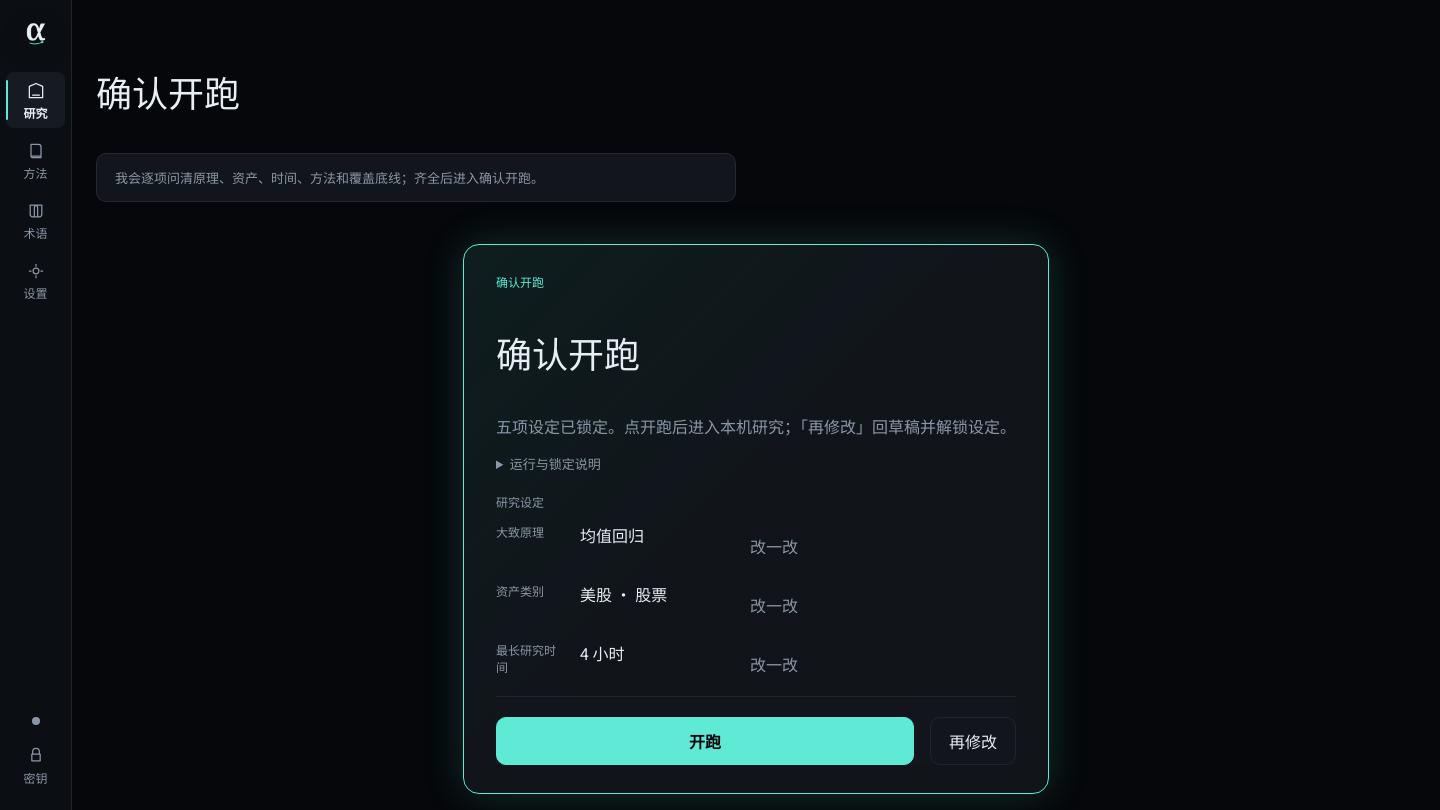
it: confirm run race › drops a stale refresh after the route generation changes
(page scrolled)
Click the button with test id "confirm-run-start" at [705, 741], box [496,717,914,765]
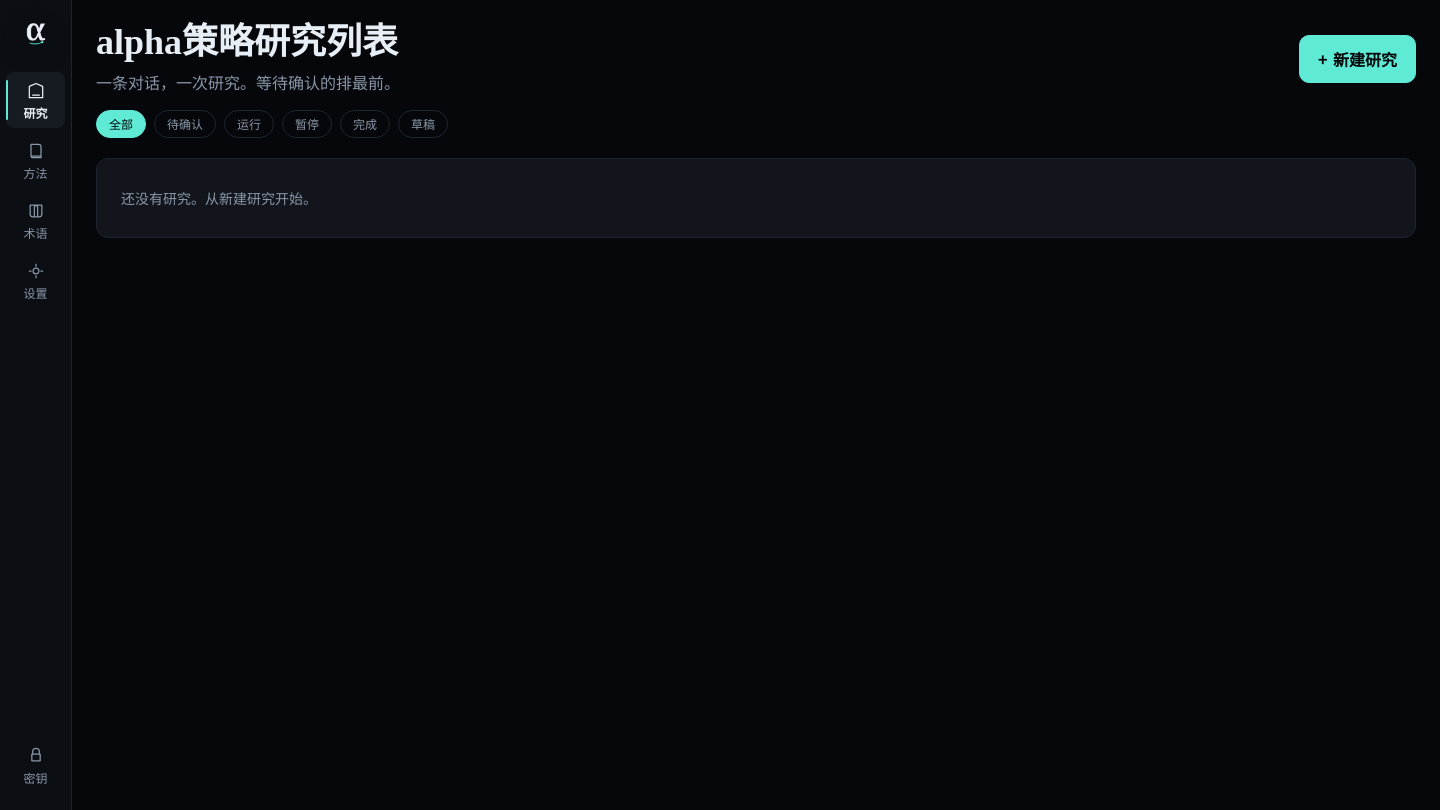
Expected: the heading "确认开跑" is gone
